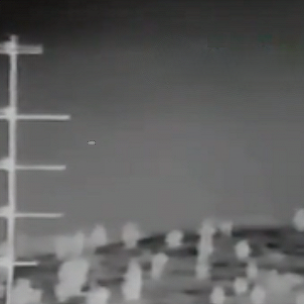Targetw: (87, 139, 97, 146)
